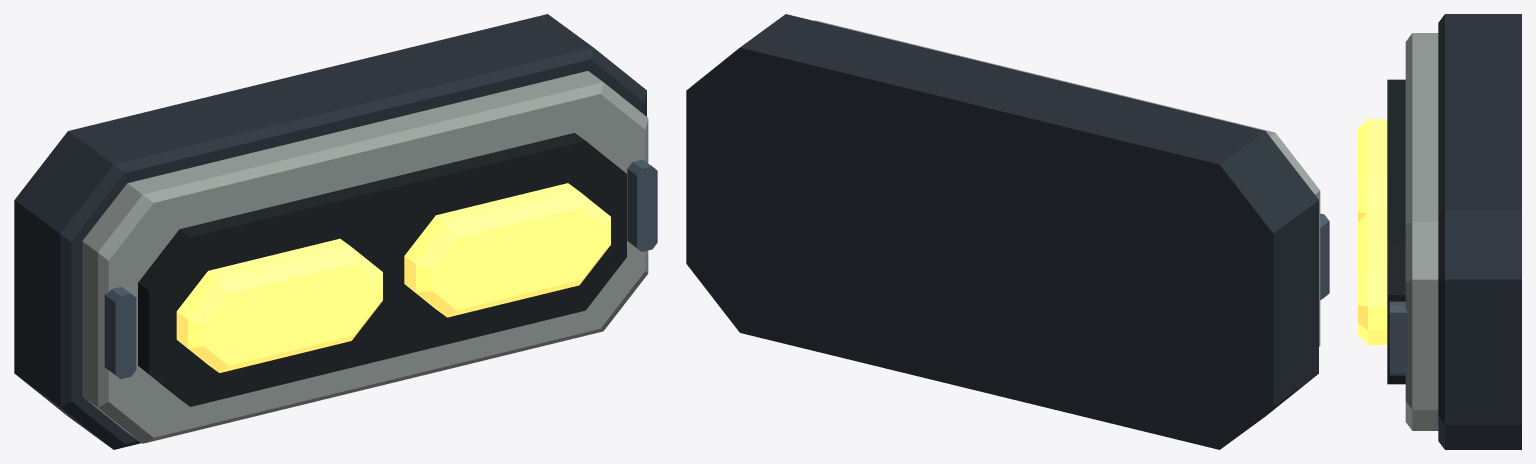
Rendered from K-07_emergency_lamp.glb.
3 views of the same model, side by side, from view 1: azimuth 30°, elevation 25°; view 2: azimuth 150°, elevation 25°; view 3: azimuth 270°, elevation 25° (orthographic). The views are drawn at different scales.
Parts seen in each view (by area): view 1: K-07_emergency_lamp; view 2: K-07_emergency_lamp; view 3: K-07_emergency_lamp.
Part boxes in pixels (x1,y1,x2,y2): K-07_emergency_lamp: (14,14,657,449); K-07_emergency_lamp: (686,14,1329,449); K-07_emergency_lamp: (1358,14,1521,449).
Size of the model in its own units: 0.34 by 0.158 by 0.098.
